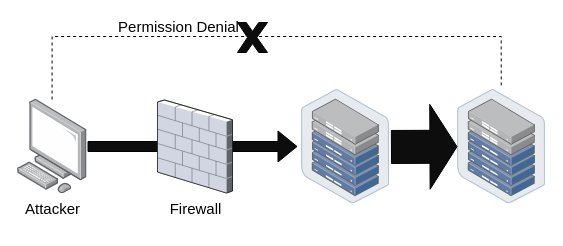
Some shapes in this 563 by 246 pixel diagram are drawn without their labels. The centre of each missing label's shape, as x and y in pixels:
"QUIC Server (Victim)" goes at (x=345, y=146).
"Target" goes at (x=501, y=146).
